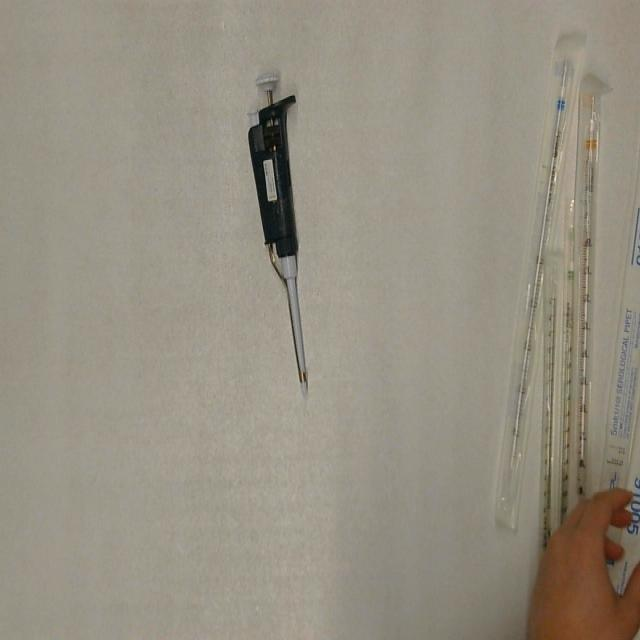Serelogical Pipet 10 mL: (570, 75, 605, 530)
Serelogical Pipet 2 mL: (538, 194, 578, 571)
Serelogical Pipet 5 mL: (491, 30, 592, 531), (598, 145, 640, 491), (614, 384, 640, 593)
Single Channel Pipettor: (241, 62, 322, 400)
